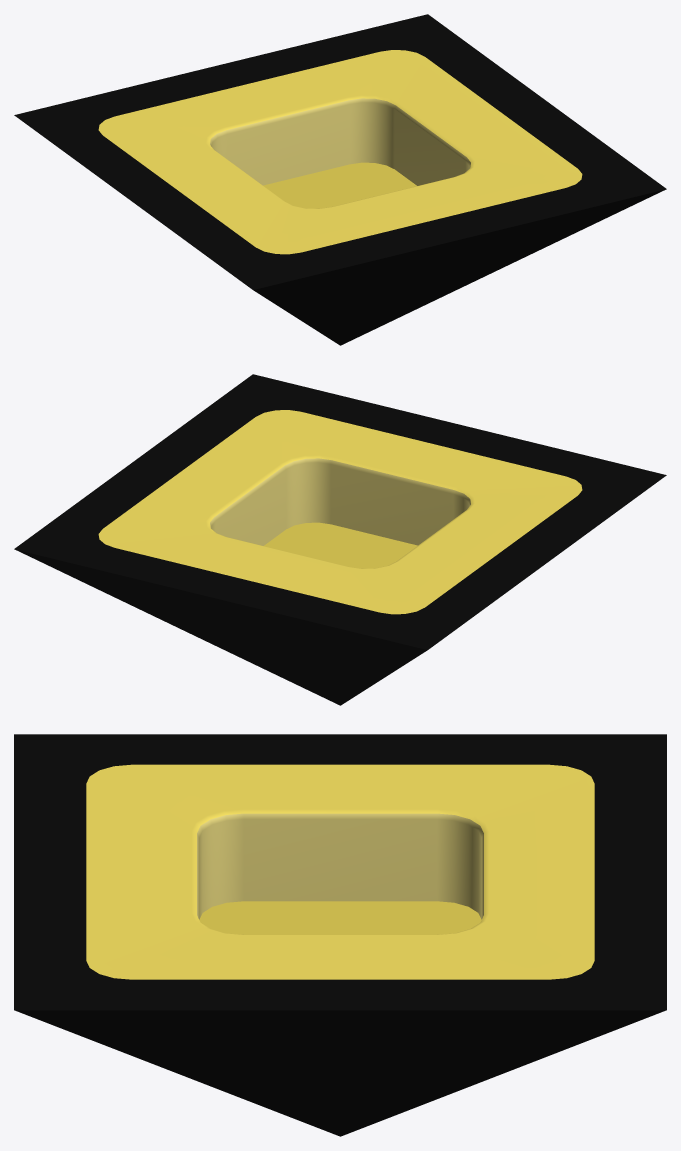
Rendered from Cell_Yellow_V2.fbx.
3 renders of one model, top to bottom at view 1: azimuth 30°, elevation 25°; view 2: azimuth 150°, elevation 25°; view 3: azimuth 270°, elevation 25°, orthographic. The views are drawn at different scales.
Parts seen in each view (by area): view 1: Cell_Yellow_v2; view 2: Cell_Yellow_v2; view 3: Cell_Yellow_v2.
Part boxes in pixels (left/top/right/bottom): Cell_Yellow_v2: left=14, top=14, right=666, bottom=345; Cell_Yellow_v2: left=14, top=374, right=666, bottom=705; Cell_Yellow_v2: left=14, top=734, right=666, bottom=1136.
Size of the model in its own units: 112 by 50.06 by 112.
